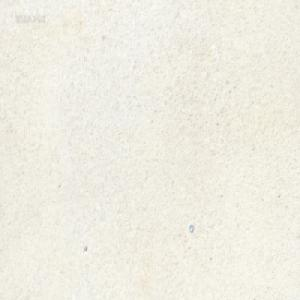Washer: (189, 223, 194, 233)
